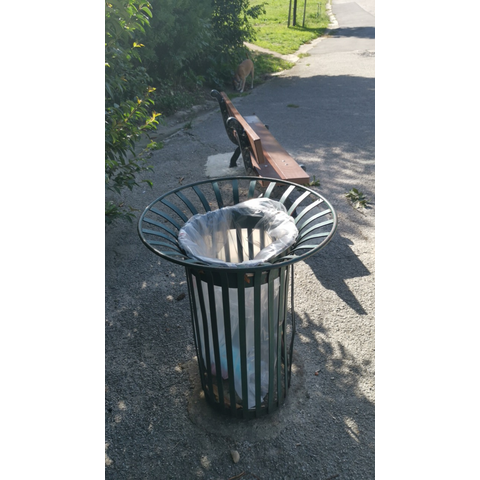poubelle: (137, 171, 341, 420)
